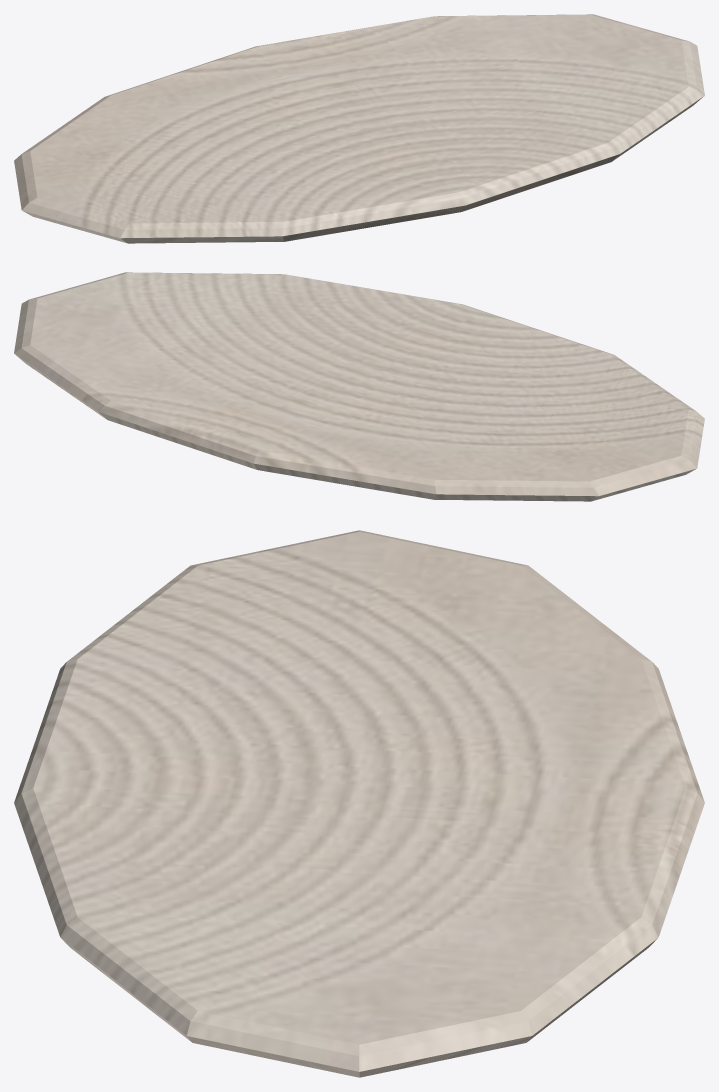
The model's file is adulte_carpet.fbx.
3 renders of one model, top to bottom at view 1: azimuth 30°, elevation 25°; view 2: azimuth 150°, elevation 25°; view 3: azimuth 270°, elevation 25°, orthographic. The views are drawn at different scales.
Parts seen in each view (by area): view 1: Carpet A; view 2: Carpet A; view 3: Carpet A.
Part boxes in pixels (x1,y1,x2,y2): Carpet A: (14, 14, 704, 243); Carpet A: (14, 272, 704, 501); Carpet A: (14, 530, 704, 1077).
Size of the model in its own units: 352 by 8.99 by 191.
1 material, 1 textured.
